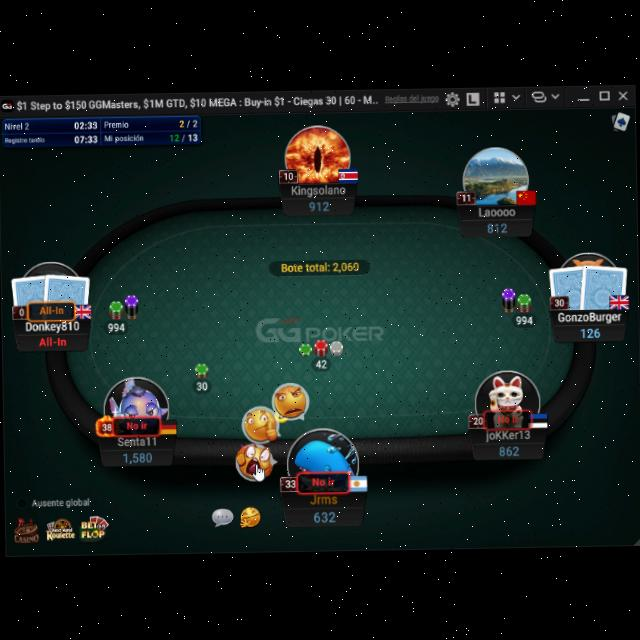all_in_symbol: (38, 333, 67, 346)
bet_text: (106, 317, 126, 330), (514, 311, 534, 322), (313, 355, 328, 367), (194, 376, 208, 388)
card_back: (578, 258, 629, 308), (42, 266, 92, 314), (546, 260, 590, 308), (8, 270, 52, 314)
pot_text: (278, 256, 360, 272)
stack_text: (122, 449, 152, 463), (312, 507, 337, 523), (306, 197, 330, 211), (486, 219, 508, 233), (498, 443, 520, 456), (579, 324, 599, 338)
